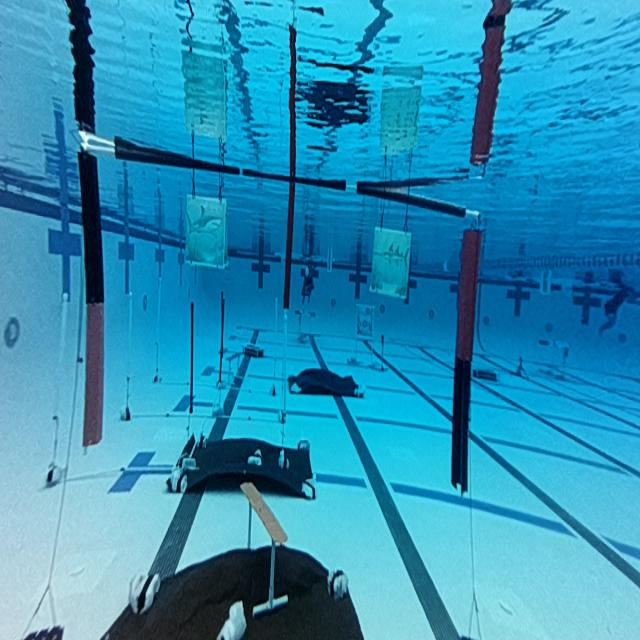pointed_nose: (374, 226, 412, 296)
round_nose: (180, 185, 230, 278)
